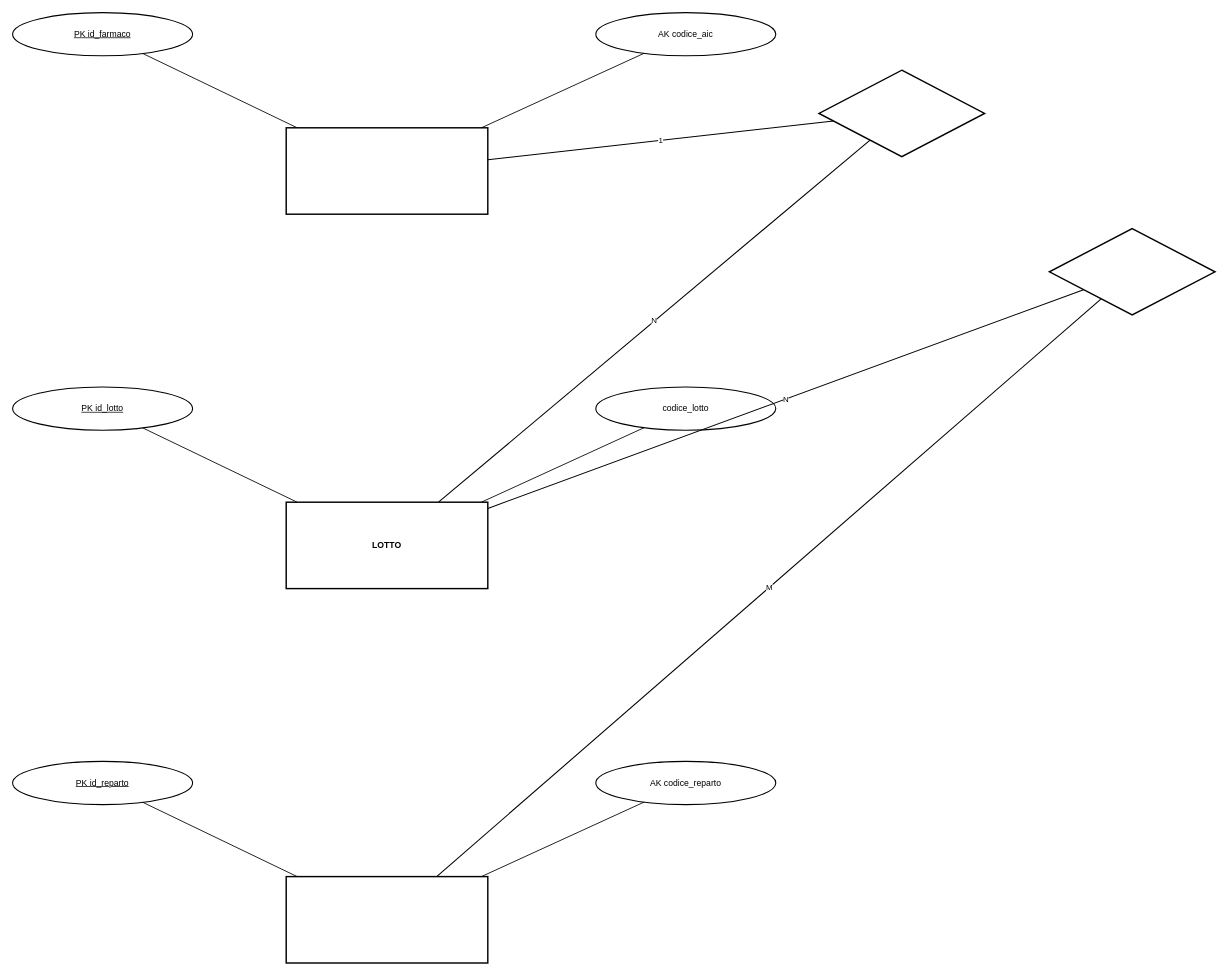
The diagram is 1228 pixels wide and 976 high, and some of its shapes have lost their labels. Each missing label, with the box of its shape:
CONTENUTO_IN: (818, 69, 985, 157)
FARMACO: (285, 127, 488, 215)
REPARTO: (285, 876, 488, 963)
STOCCATO_IN: (1048, 228, 1215, 315)
